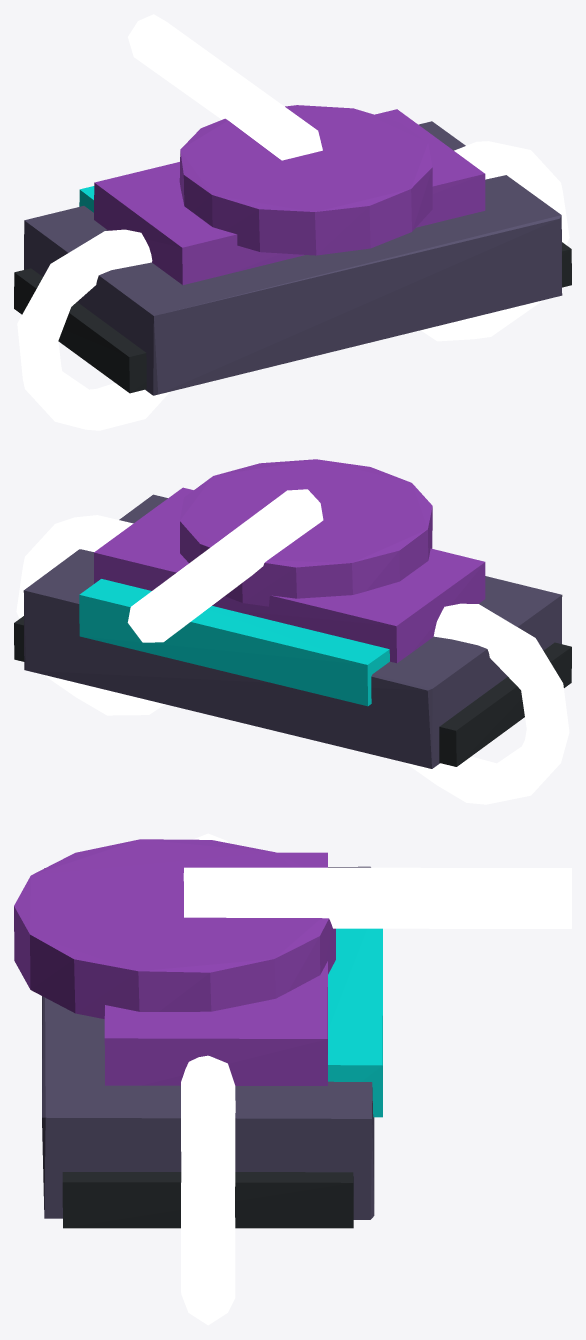
Rendered from SM_Chronolegion_CH_DeltaDelayArtillery_LOD2.fbx.
The picture shows the model from 3 angles, top to bottom: view 1: azimuth 30°, elevation 25°; view 2: azimuth 150°, elevation 25°; view 3: azimuth 270°, elevation 25°; orthographic projection. The views are drawn at different scales.
Parts seen in each view (by area): view 1: LOD02_SM_Chronolegion_CH_DeltaDelayArtillery; view 2: LOD02_SM_Chronolegion_CH_DeltaDelayArtillery; view 3: LOD02_SM_Chronolegion_CH_DeltaDelayArtillery.
Part boxes in pixels (bbox=[...]): LOD02_SM_Chronolegion_CH_DeltaDelayArtillery: bbox=[14, 14, 571, 430]; LOD02_SM_Chronolegion_CH_DeltaDelayArtillery: bbox=[14, 459, 571, 804]; LOD02_SM_Chronolegion_CH_DeltaDelayArtillery: bbox=[14, 833, 571, 1325].
Bounding box in the file's own units: 597 × 418 × 273.
